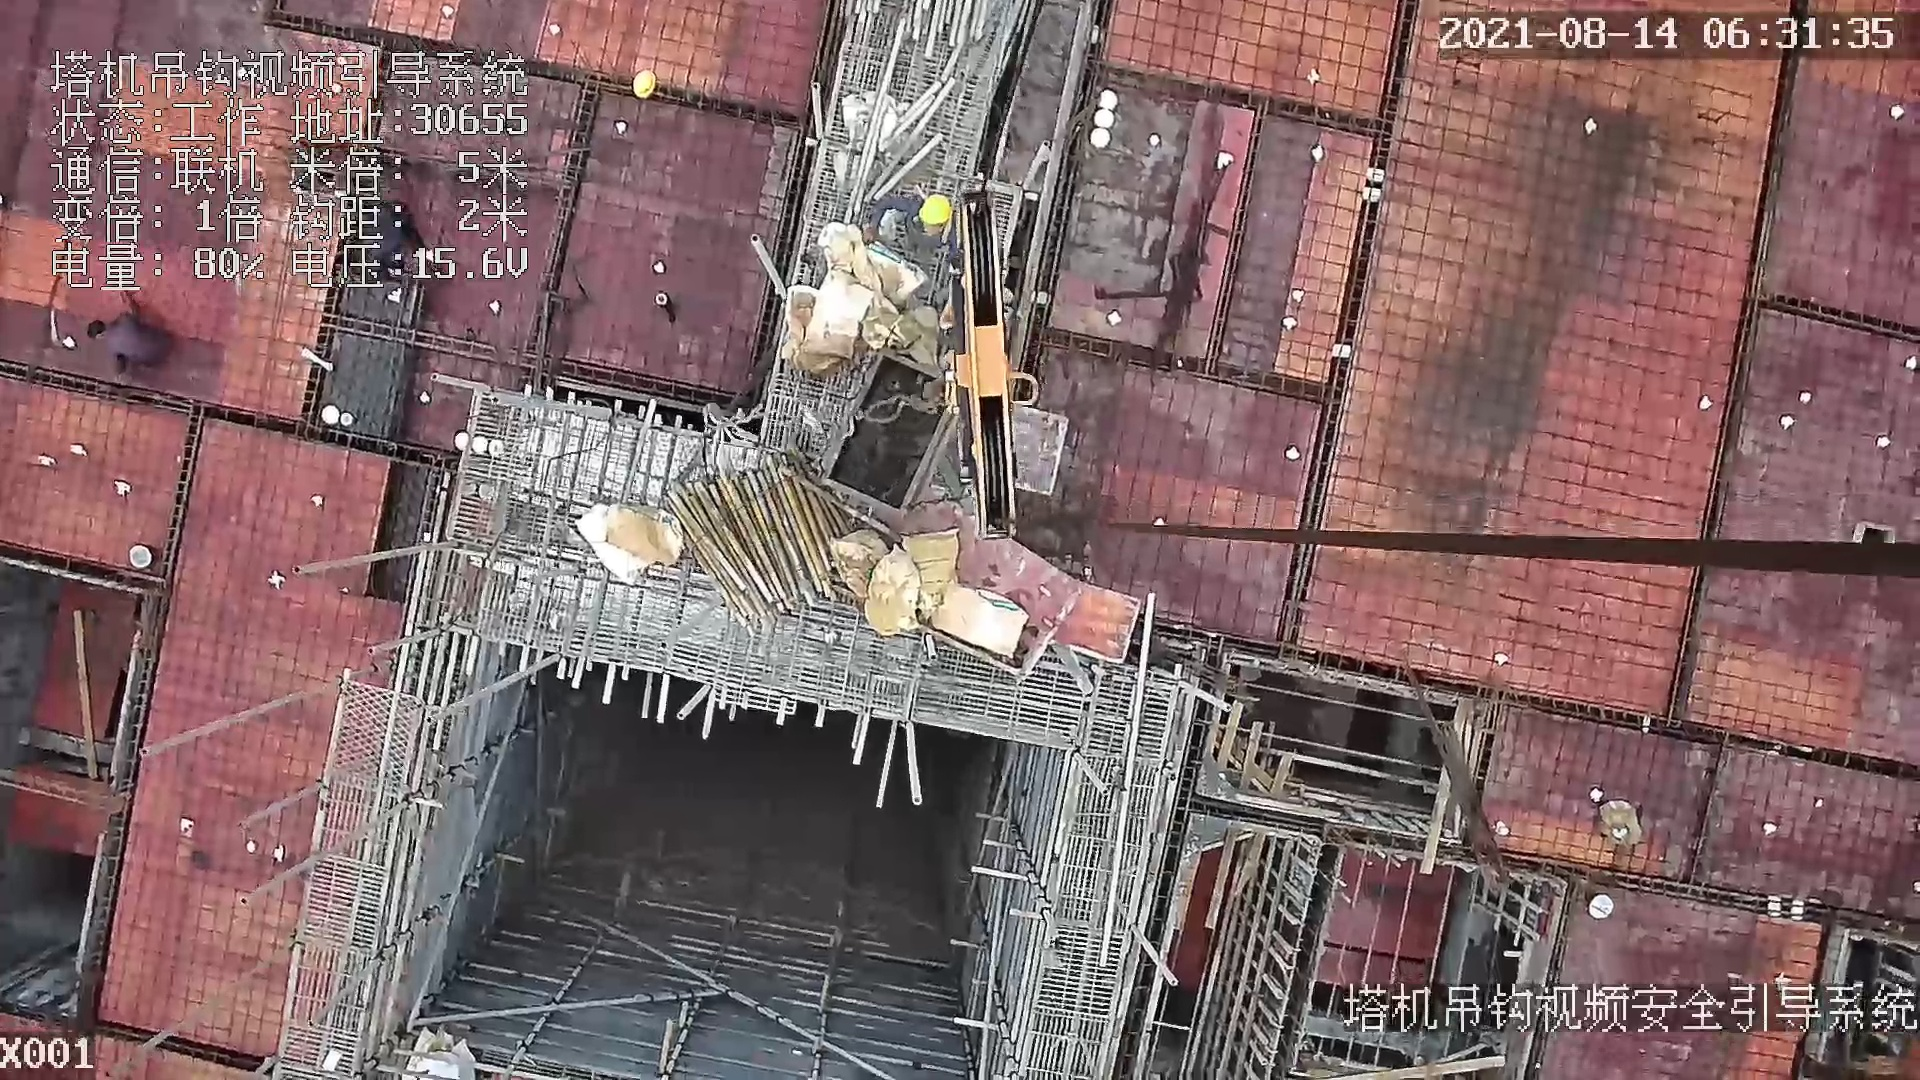helmet: (917, 191, 954, 232), (632, 69, 659, 101)
hook: (945, 190, 1033, 544)
hopper: (819, 360, 968, 526)
person: (82, 296, 181, 377), (868, 191, 962, 264)
scaffold: (664, 445, 850, 626)
